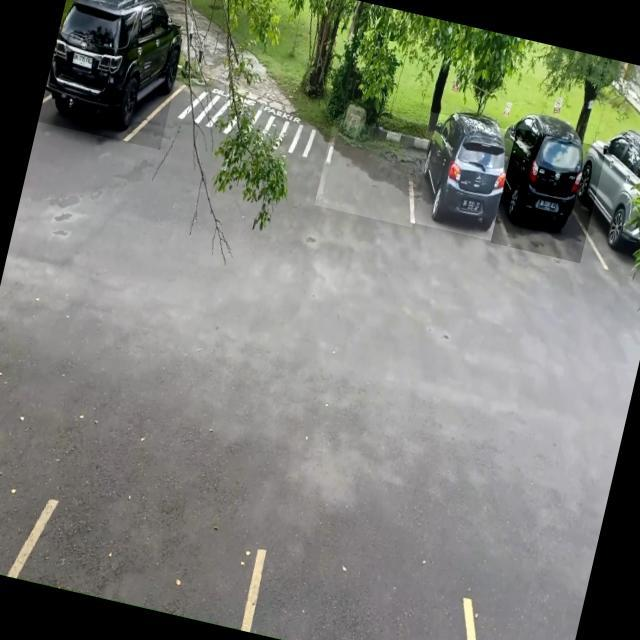empty: (314, 117, 432, 227)
occupied: (37, 0, 188, 149), (404, 111, 524, 242), (490, 128, 606, 262)
